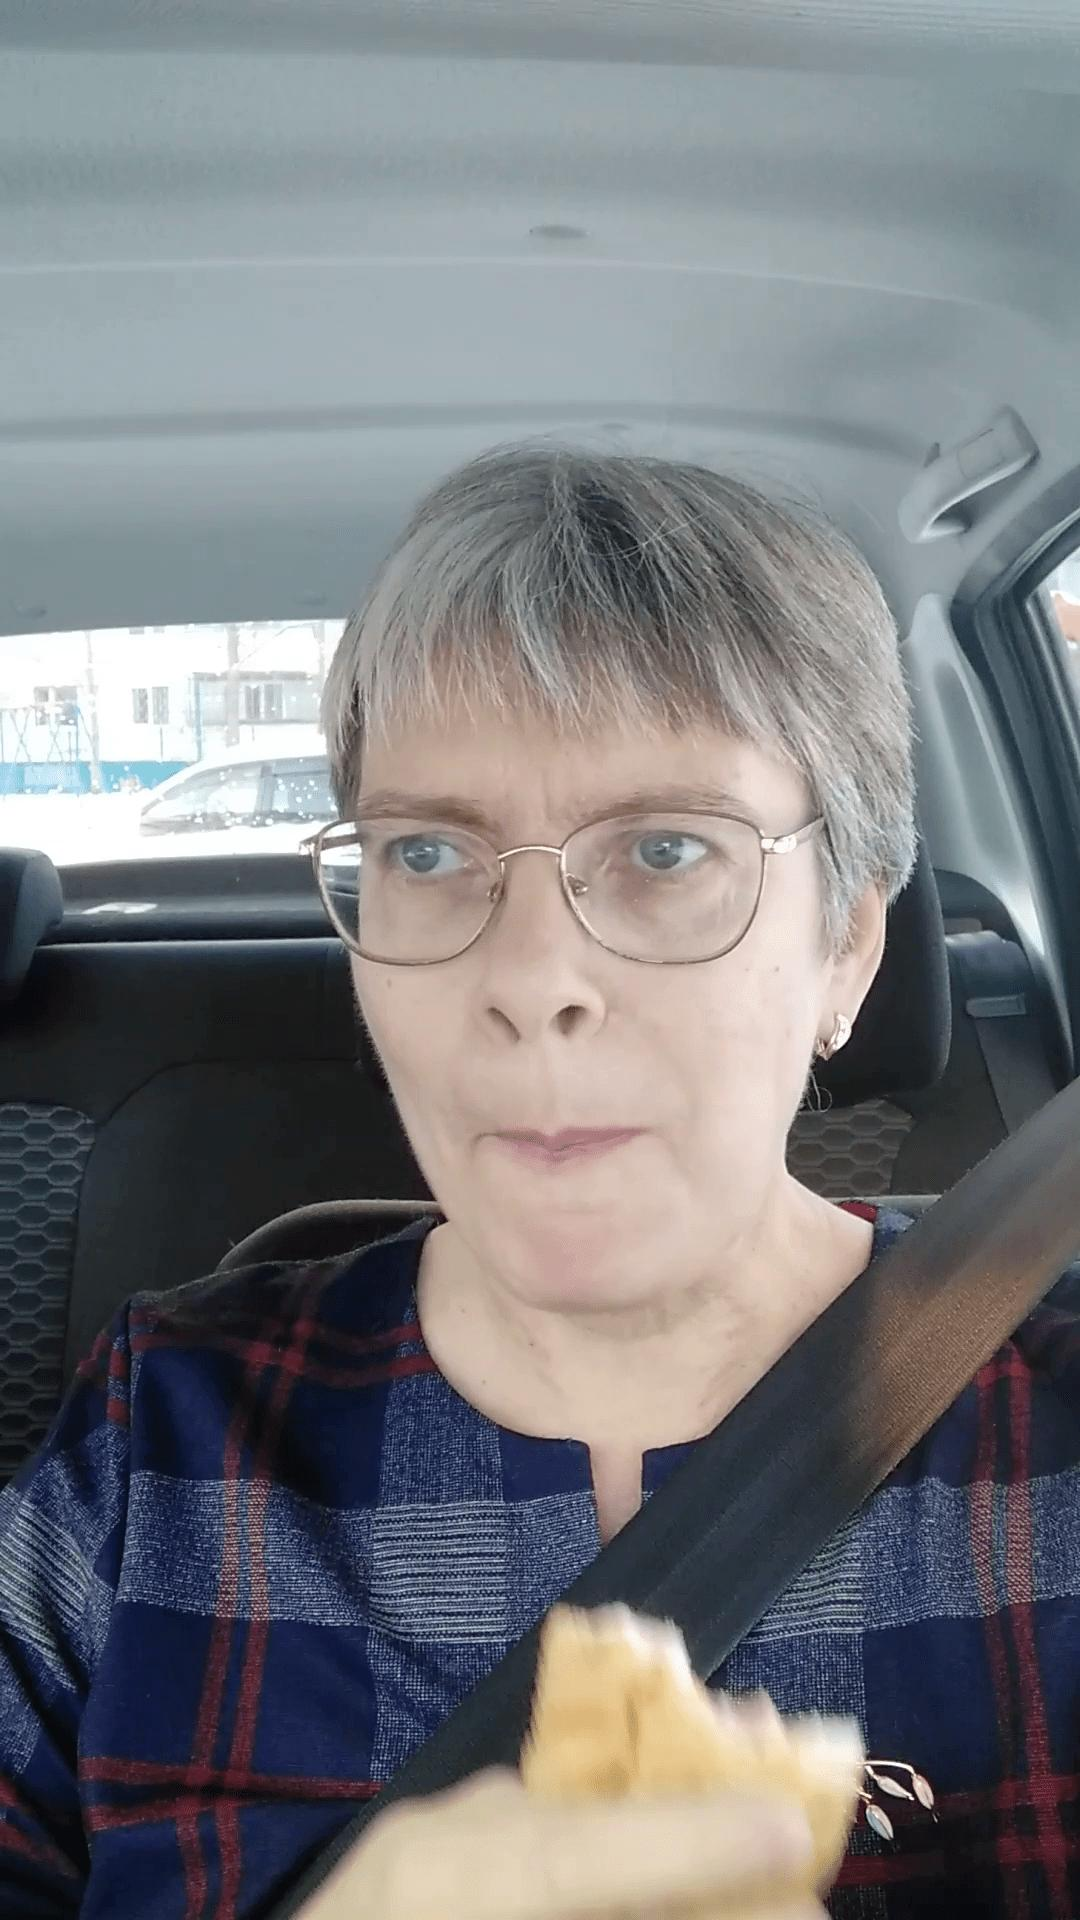Eating: (521, 1578, 874, 1920)
